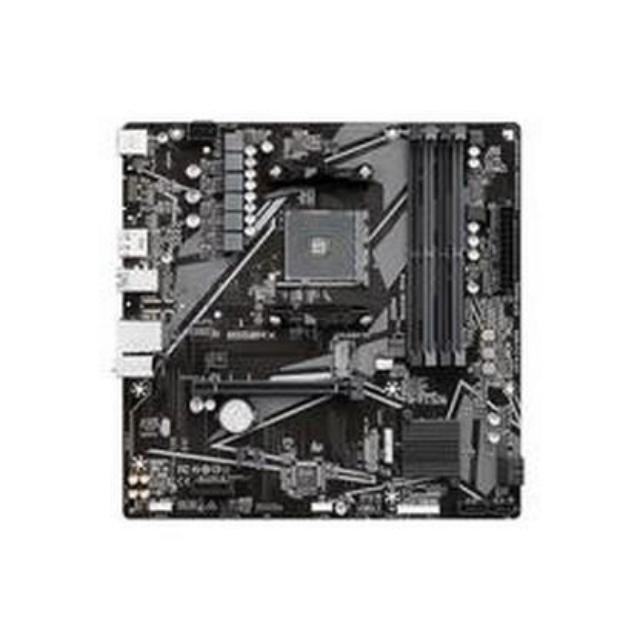Mainboard: (109, 111, 528, 526)
